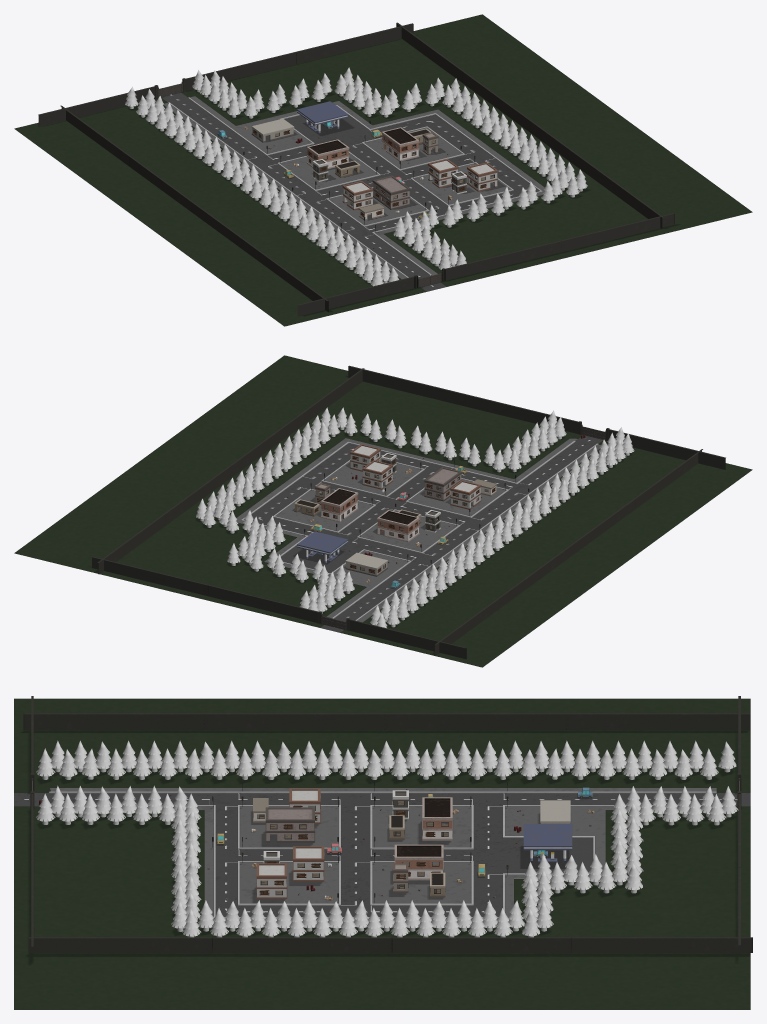
Rendered from Location.fbx.
3 views of the same model, one above another, from view 1: azimuth 30°, elevation 25°; view 2: azimuth 150°, elevation 25°; view 3: azimuth 270°, elevation 25° (orthographic). The views are drawn at different scales.
Visible parts, largest first — view 1: Floor, Trees1, FloorCity, Gate, Gate2, Gate3, Gate9, Gate11, Gate12, House2_3_Left_House2_5, GasStation, House2_3_Left_House2_3 (+11 smaller); view 2: Floor, Trees1, FloorCity, Gate2, Gate, Gate9, Gate3, House2_3_Left_House2_4, Gate11, House2_3_Left_House2_3, GasStation, Gate13 (+11 smaller); view 3: Floor, Trees1, FloorCity, Gate8, Gate6, Gate7, Gate5, Gate13, Gate12, Gate11, Gate10, House2_3_Left_House2_5 (+9 smaller).
Part boxes in pixels (bbox=[...]): Floor: bbox=[14, 14, 752, 326]; Trees1: bbox=[125, 67, 587, 286]; FloorCity: bbox=[163, 96, 544, 279]; Gate: bbox=[297, 240, 561, 316]; Gate2: bbox=[38, 50, 302, 126]; Gate3: bbox=[296, 23, 413, 63]; Gate9: bbox=[557, 213, 675, 252]; Gate11: bbox=[462, 71, 530, 132]; Gate12: bbox=[529, 119, 597, 180]; House2_3_Left_House2_5: bbox=[372, 175, 410, 209]; GasStation: bbox=[297, 101, 348, 133]; House2_3_Left_House2_3: bbox=[381, 127, 419, 161]; Floor: bbox=[14, 355, 752, 667]; Trees1: bbox=[196, 407, 634, 628]; FloorCity: bbox=[236, 438, 600, 622]; Gate2: bbox=[203, 584, 466, 659]; Gate: bbox=[462, 393, 725, 469]; Gate9: bbox=[348, 365, 465, 406]; Gate3: bbox=[91, 556, 208, 596]; House2_3_Left_House2_4: bbox=[377, 510, 419, 542]; Gate11: bbox=[165, 465, 232, 525]; House2_3_Left_House2_3: bbox=[320, 488, 358, 522]; GasStation: bbox=[297, 531, 348, 563]; Gate13: bbox=[296, 368, 364, 429]; Floor: bbox=[14, 698, 750, 1009]; Trees1: bbox=[36, 740, 738, 937]; FloorCity: bbox=[48, 788, 716, 921]; Gate8: bbox=[23, 713, 207, 729]; Gate6: bbox=[384, 713, 568, 729]; Gate7: bbox=[204, 713, 387, 729]; Gate5: bbox=[566, 713, 750, 729]; Gate13: bbox=[28, 937, 212, 952]; Gate12: bbox=[208, 937, 392, 952]; Gate11: bbox=[388, 937, 571, 952]; Gate10: bbox=[568, 937, 752, 952]; House2_3_Left_House2_5: bbox=[265, 807, 314, 842].
Size of the model in its own units: 200 by 9.31 by 201.
